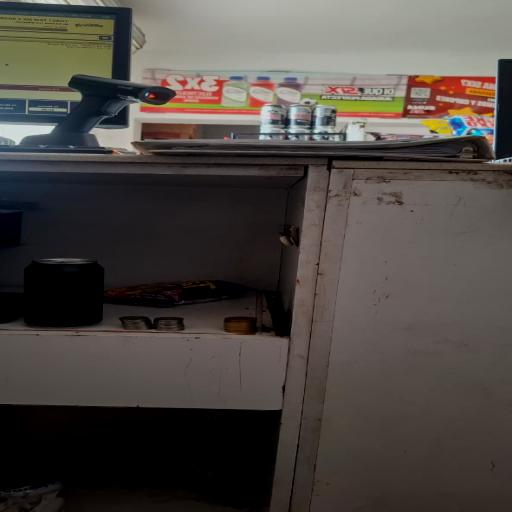LATA: (21, 254, 100, 330)
